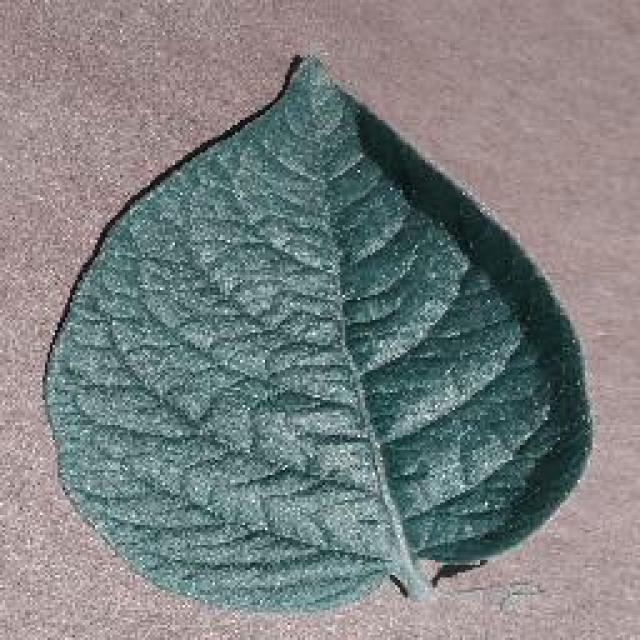Potato___healthy: (38, 51, 595, 618)
